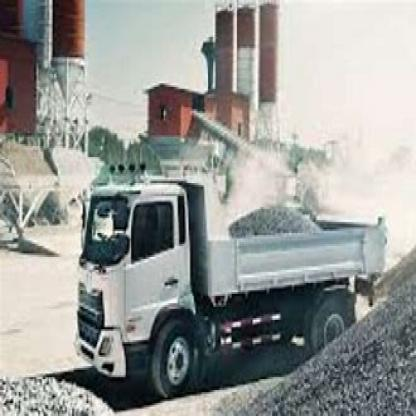dump_truck: (72, 146, 415, 414)
